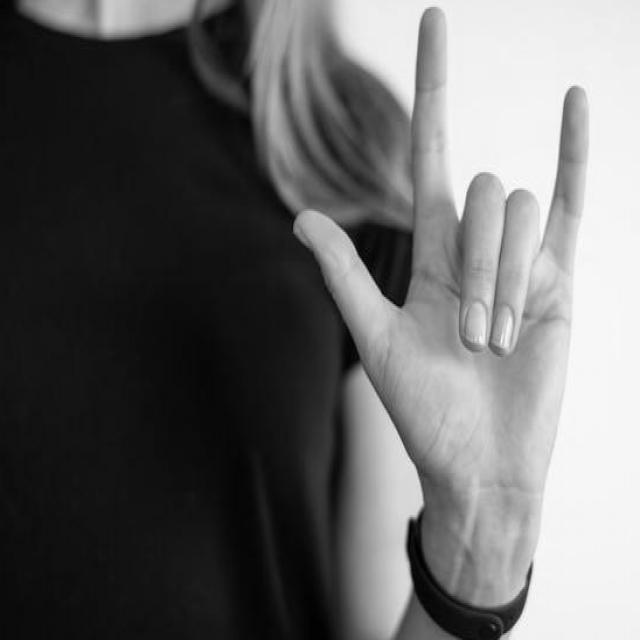i love you: (288, 0, 595, 585)
